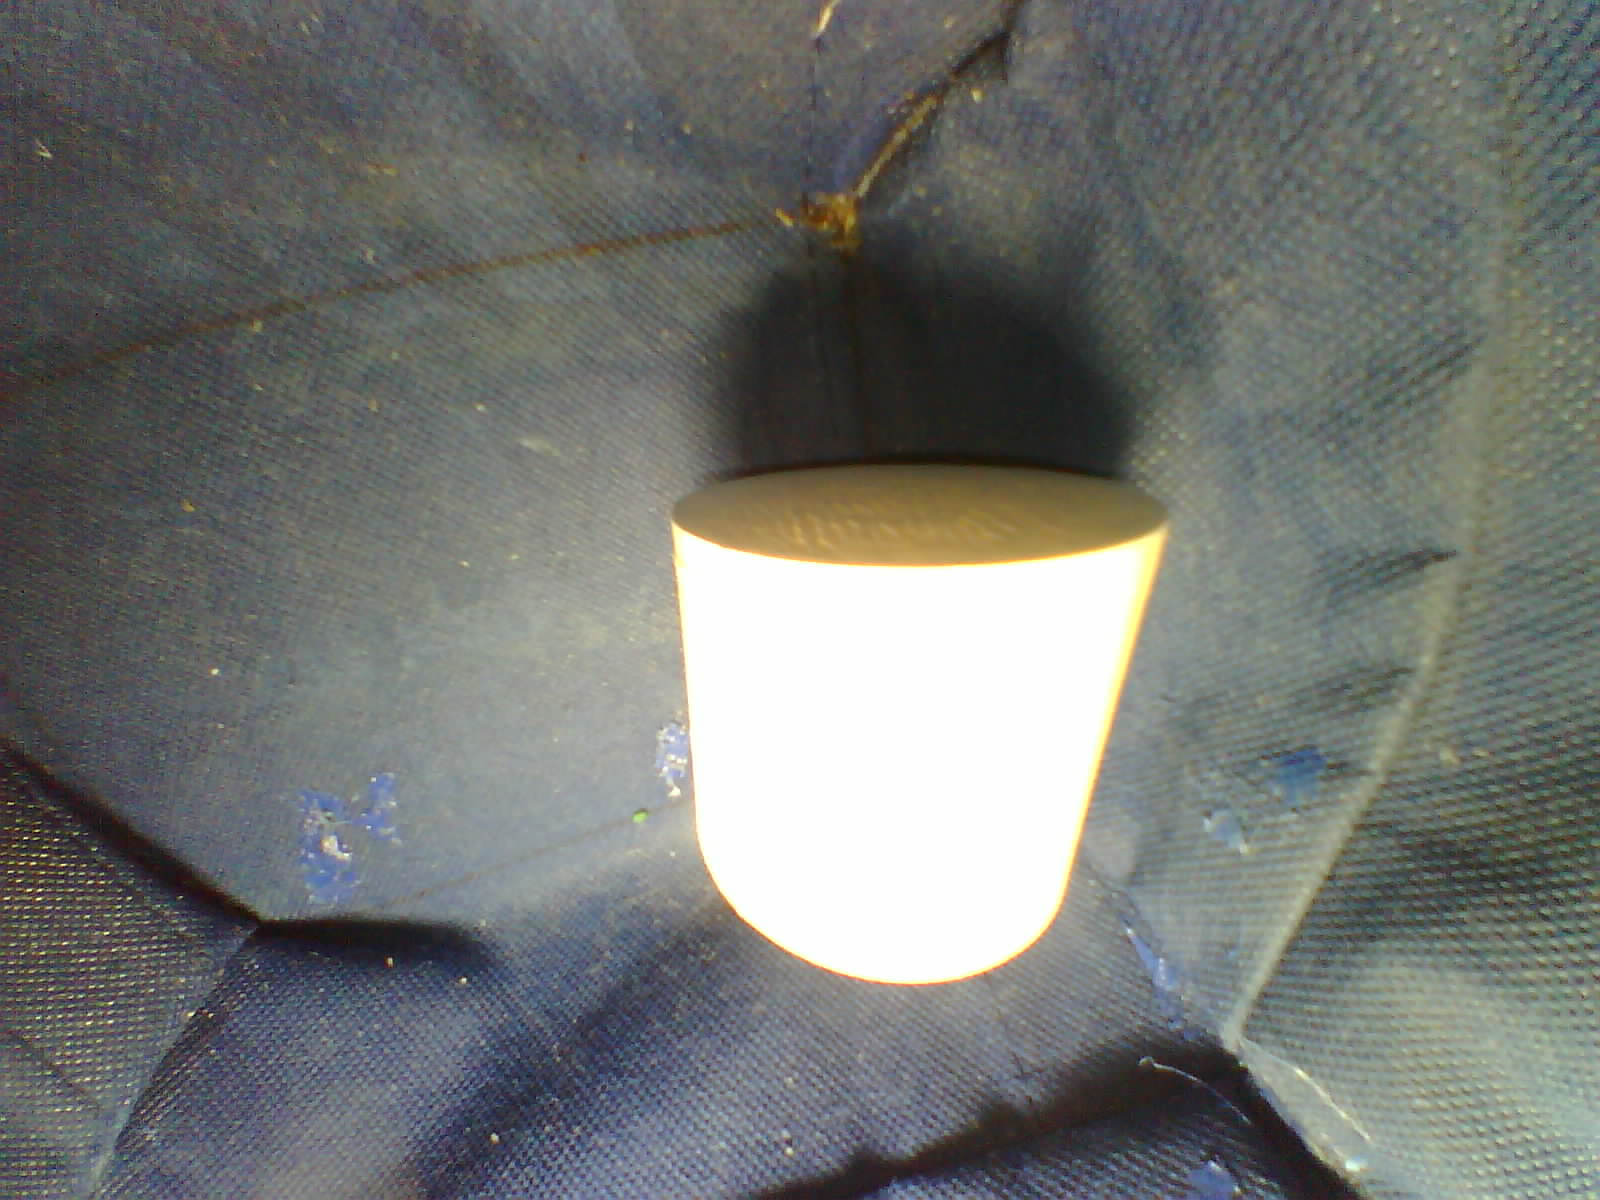cylinder-hard: (640, 426, 1182, 1012)
